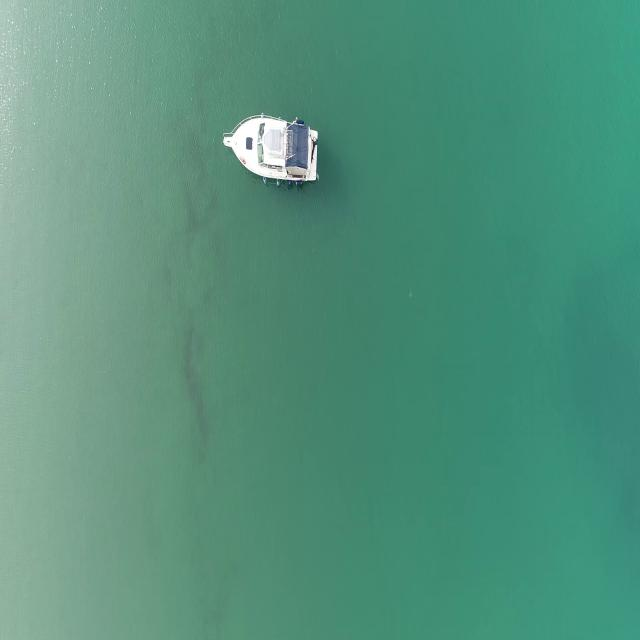boat: (222, 111, 320, 189)
